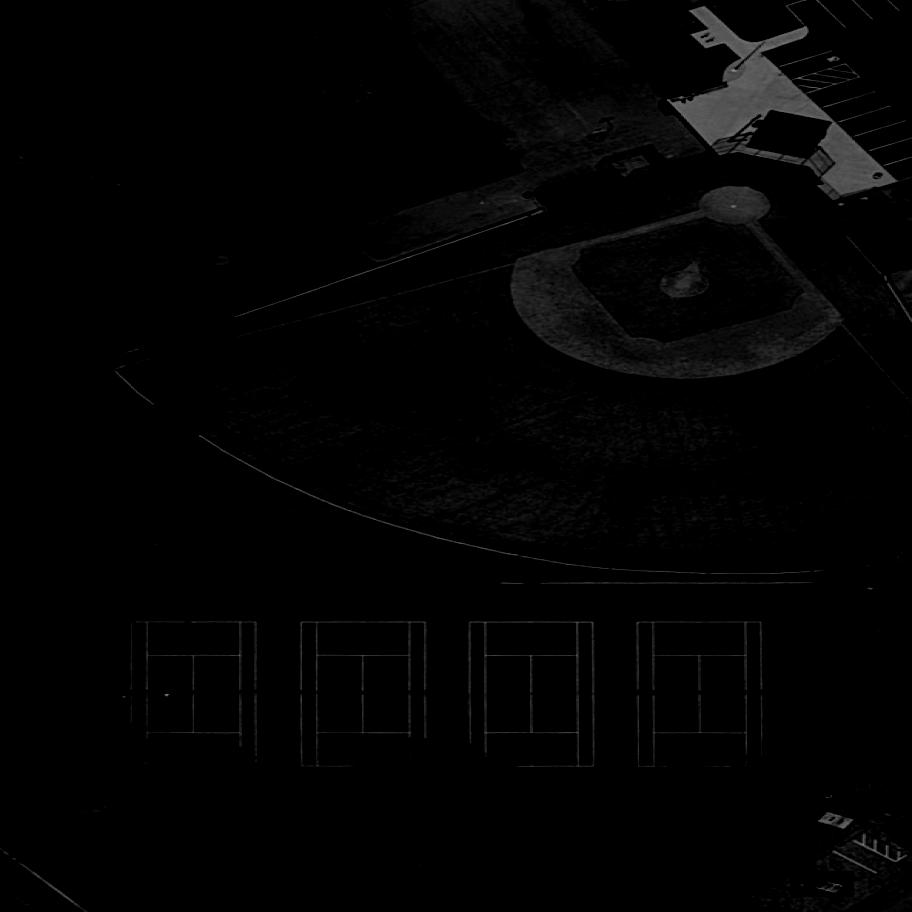small-vehicle: (791, 869, 854, 899)
